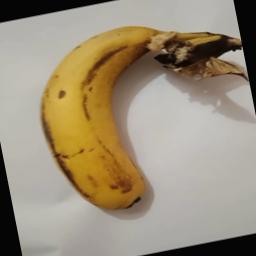Banana Unripe: (19, 2, 256, 224)
